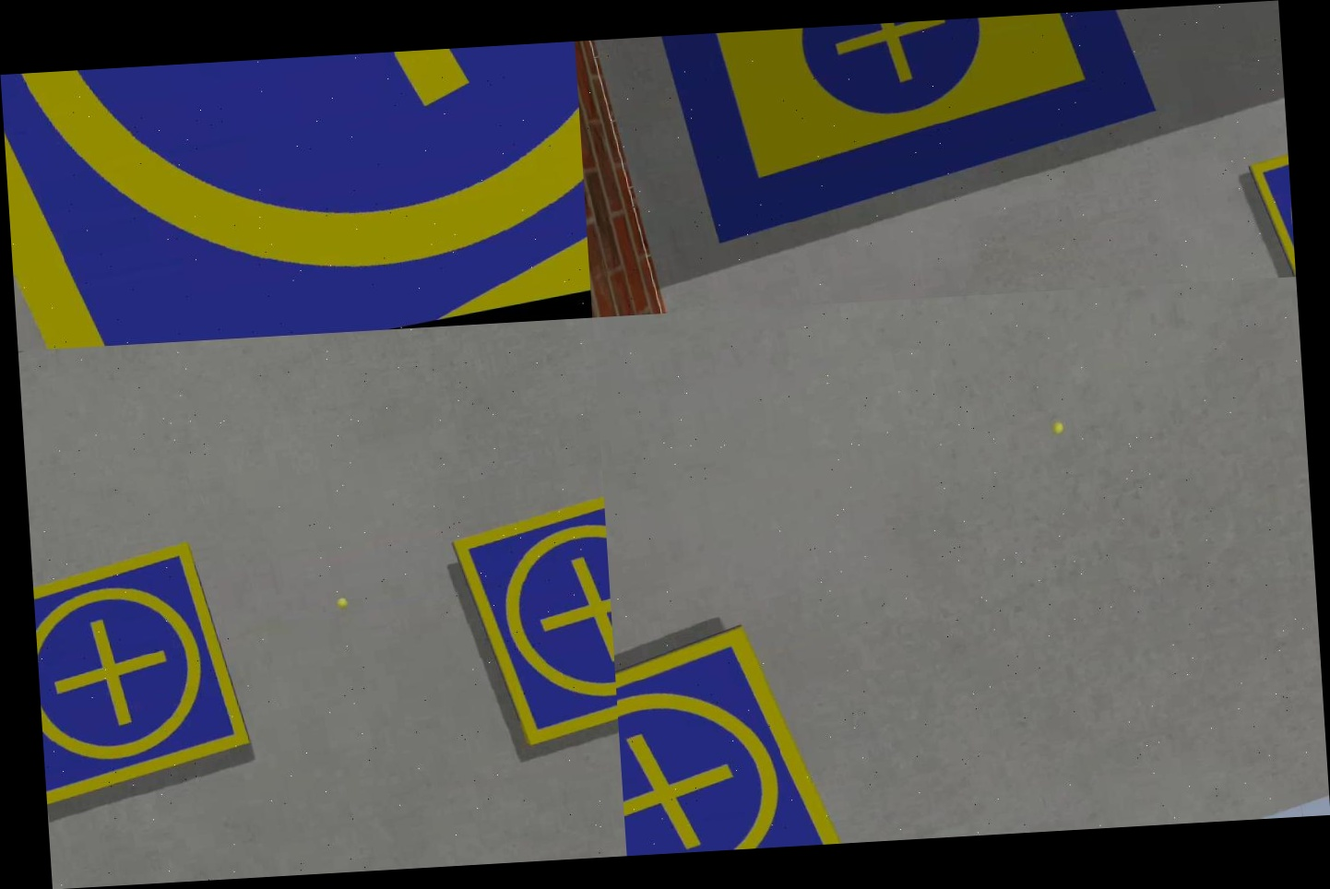large_base: (638, 7, 1170, 252)
small_base: (0, 41, 592, 351), (30, 534, 260, 814), (612, 611, 849, 855), (444, 479, 620, 757)
